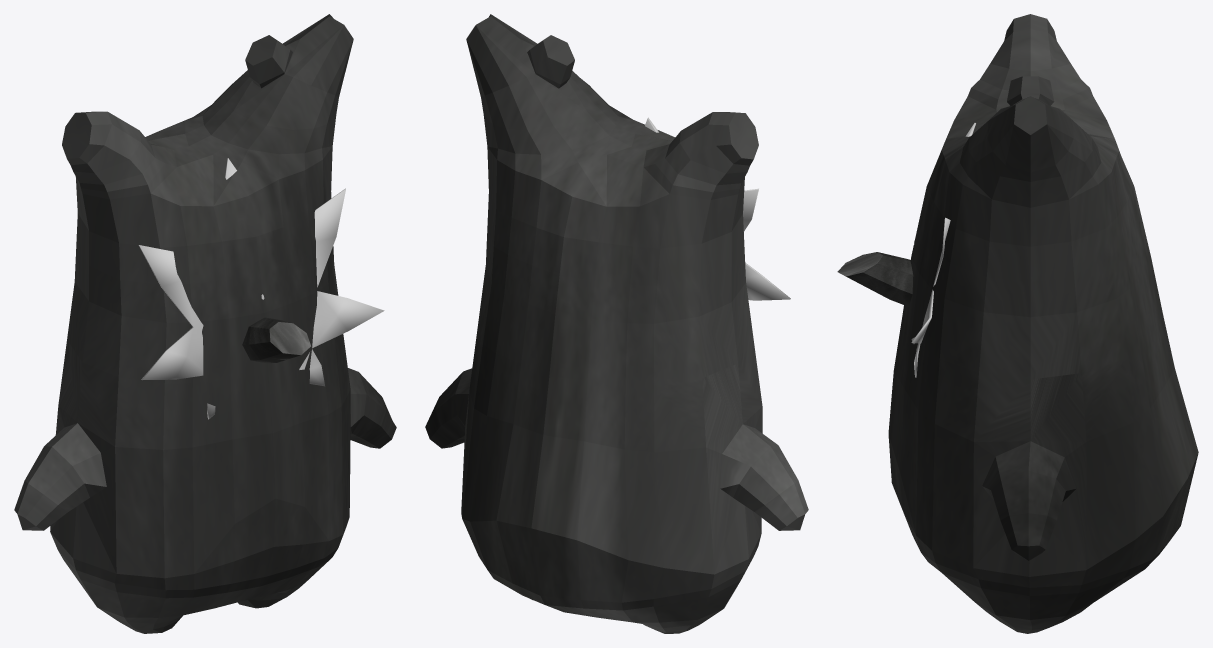
The model's file is frame_0020.obj.
3 views of the same model, side by side, from view 1: azimuth 30°, elevation 25°; view 2: azimuth 150°, elevation 25°; view 3: azimuth 270°, elevation 25° (orthographic).
Visible parts, largest first — view 1: korok, leaf.003_柱体.013, nose.003_柱体.011; view 2: korok, leaf.003_柱体.013; view 3: korok, nose.003_柱体.011, leaf.003_柱体.013.
Boxes of the visible parts, x1,y1,x2,y2 form: korok: (14,14,396,633); leaf.003_柱体.013: (138,158,384,419); nose.003_柱体.011: (242,317,310,363); korok: (425,14,808,633); leaf.003_柱体.013: (645,117,790,300); korok: (888,14,1198,633); nose.003_柱体.011: (837,252,913,306); leaf.003_柱体.013: (911,123,975,377).
Size of the model in its own units: 1.63 by 2.37 by 1.36.
